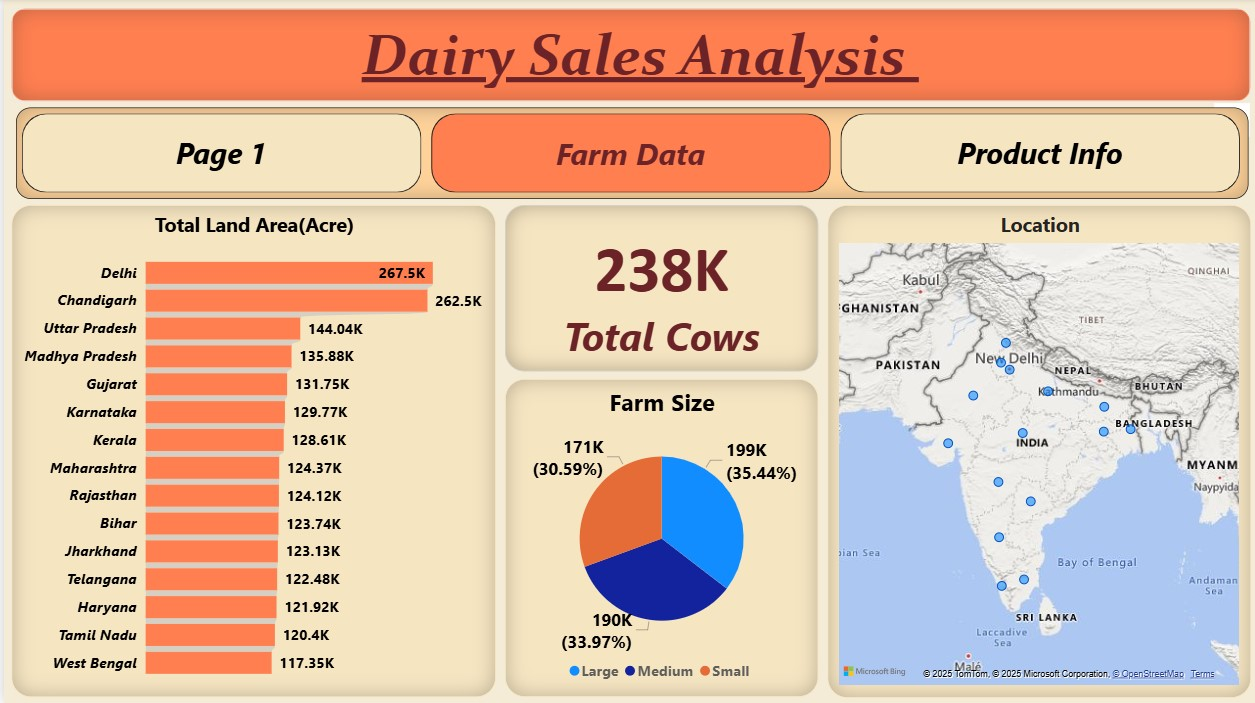

Layout of this report page (visuals, bound fields, positions):
{"tool":"powerbi","page":{"name":"Farm Data","canvas":[1280,720],"ordinal":1},"visuals":[{"type":"barChart","title":"Total Land Area(Acre)","fields":{"Category":["dairy_dataset.Location"],"Y":["Sum(dairy_dataset.Total Land Area (acres))"]},"box":[7.7,211.4,494.8,502.5],"z":0},{"type":"textbox","box":[7.7,10.7,1265.4,95],"z":1000},{"type":"pieChart","title":"Farm Size","fields":{"Y":["Sum(dairy_dataset.Quantity Sold (liters/kg))"],"Category":["dairy_dataset.Farm Size"]},"box":[512,388.7,320,324.7],"z":2000},{"type":"map","fields":{"Category":["dairy_dataset.Location"]},"box":[840.6,210.9,432.8,503.1],"z":3000},{"type":"pageNavigator","box":[11.7,111.7,1258.3,93.3],"z":4000},{"type":"card","fields":{"Values":["Sum(dairy_dataset.Number of Cows)"]},"box":[511.7,211.7,320,170],"z":5000}]}

Visuals, with their boxes in screenshot pixels (x1, y1, x2, y2), scaled from the page's 1280x720 canvas onto the 1255x703 screenshot:
"Total Land Area(Acre)" barChart: 8,206,493,697
textbox: 8,10,1248,103
"Farm Size" pieChart: 502,380,816,697
map - dairy_dataset.Location: 824,206,1249,697
pageNavigator: 11,109,1245,200
card - Sum(dairy_dataset.Number of Cows): 502,207,815,373
